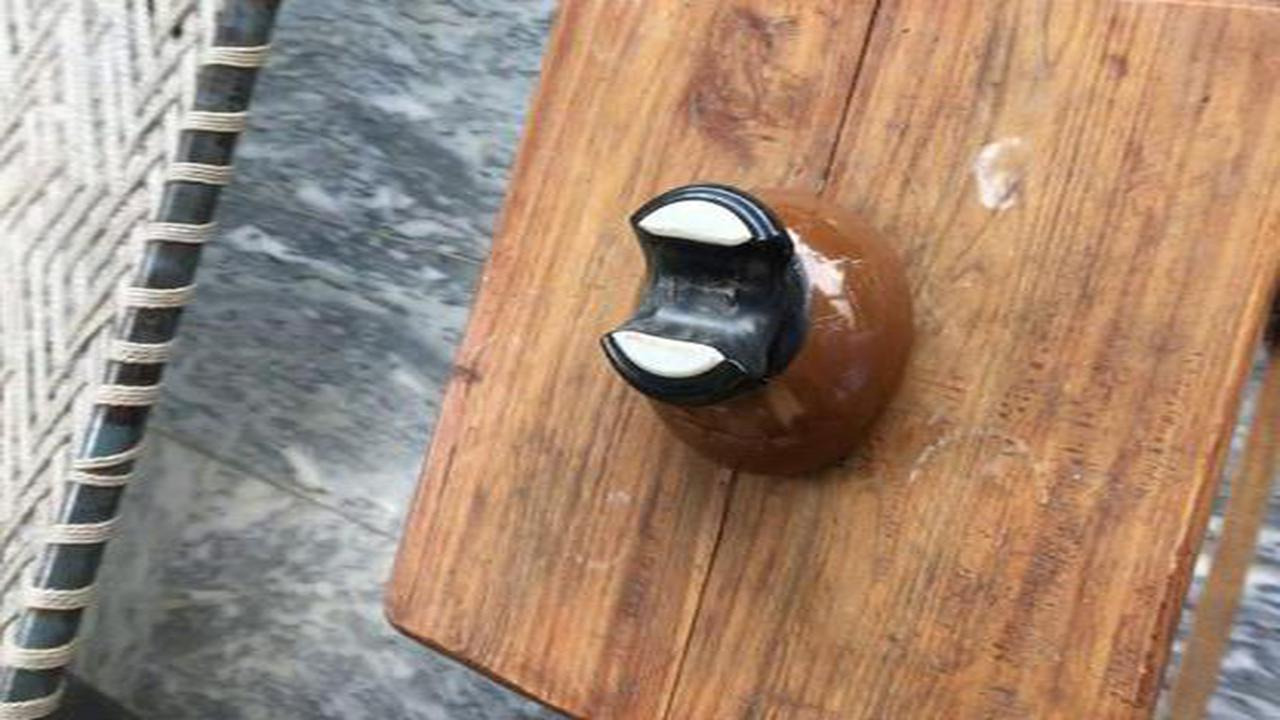insulator_pin: (585, 168, 936, 504)
